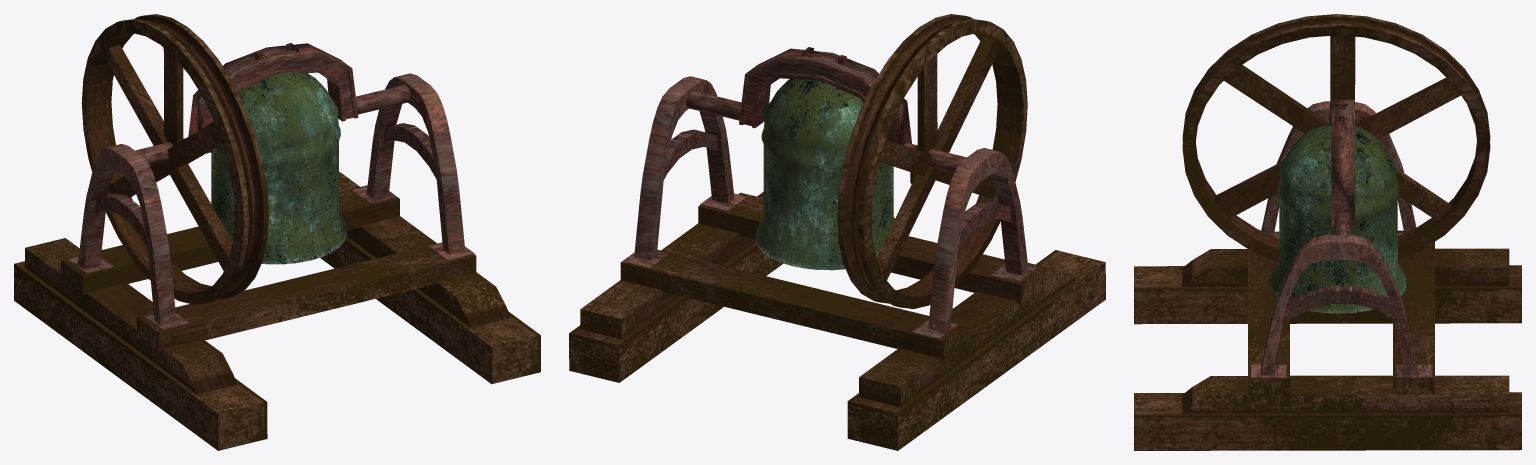
File: bell.glb
3 views of the same model, side by side, from view 1: azimuth 30°, elevation 25°; view 2: azimuth 150°, elevation 25°; view 3: azimuth 270°, elevation 25° (orthographic). The views are drawn at different scales.
Parts seen in each view (by area): view 1: OldBell:RustedMetal1; view 2: OldBell:RustedMetal1; view 3: OldBell:RustedMetal1.
Boxes of the visible parts, x1,y1,x2,y2 form: OldBell:RustedMetal1: (14, 14, 540, 450); OldBell:RustedMetal1: (569, 14, 1105, 450); OldBell:RustedMetal1: (1134, 14, 1521, 450).
Size of the model in its own units: 5.79 by 5.61 by 6.35.
3 materials, 3 textured.
